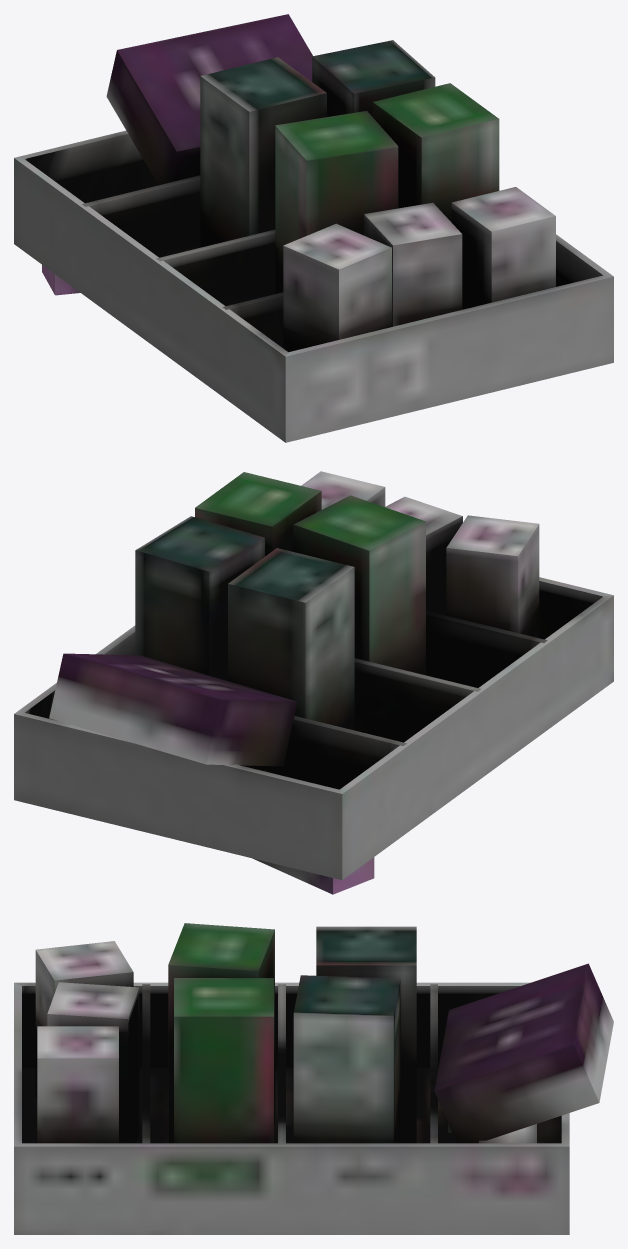
The model's file is MedBox_05.FBX.
3 renders of one model, top to bottom at view 1: azimuth 30°, elevation 25°; view 2: azimuth 150°, elevation 25°; view 3: azimuth 270°, elevation 25°, orthographic. The views are drawn at different scales.
Visible parts, largest first — view 1: MedBox_05; view 2: MedBox_05; view 3: MedBox_05.
Part boxes in pixels (<box>): MedBox_05: <box>14,14,613,442</box>; MedBox_05: <box>14,471,613,894</box>; MedBox_05: <box>14,923,613,1234</box>.
Size of the model in its own units: 30.74 by 19.8 by 47.55.
